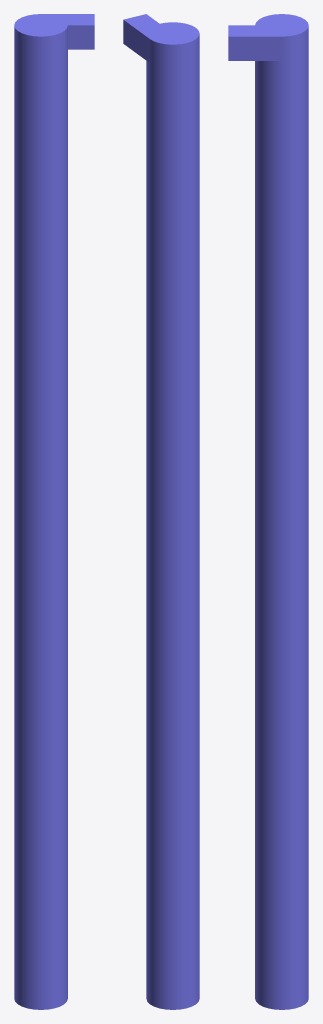
Rendered from XAxis.obj.
3 renders of one model, left to right at view 1: azimuth 90°, elevation 25°; view 2: azimuth 210°, elevation 25°; view 3: azimuth 270°, elevation 25°, orthographic.
Parts seen in each view (by area): view 1: |ZAxisAxle|Root|color; view 2: |ZAxisAxle|Root|color; view 3: |ZAxisAxle|Root|color.
Part boxes in pixels (box(x1,y1,x2,y2)): |ZAxisAxle|Root|color: box(14, 14, 94, 1009); |ZAxisAxle|Root|color: box(123, 14, 199, 1009); |ZAxisAxle|Root|color: box(228, 14, 308, 1009).
Bounding box in the file's own units: 0.01 × 0.2 × 0.015.
